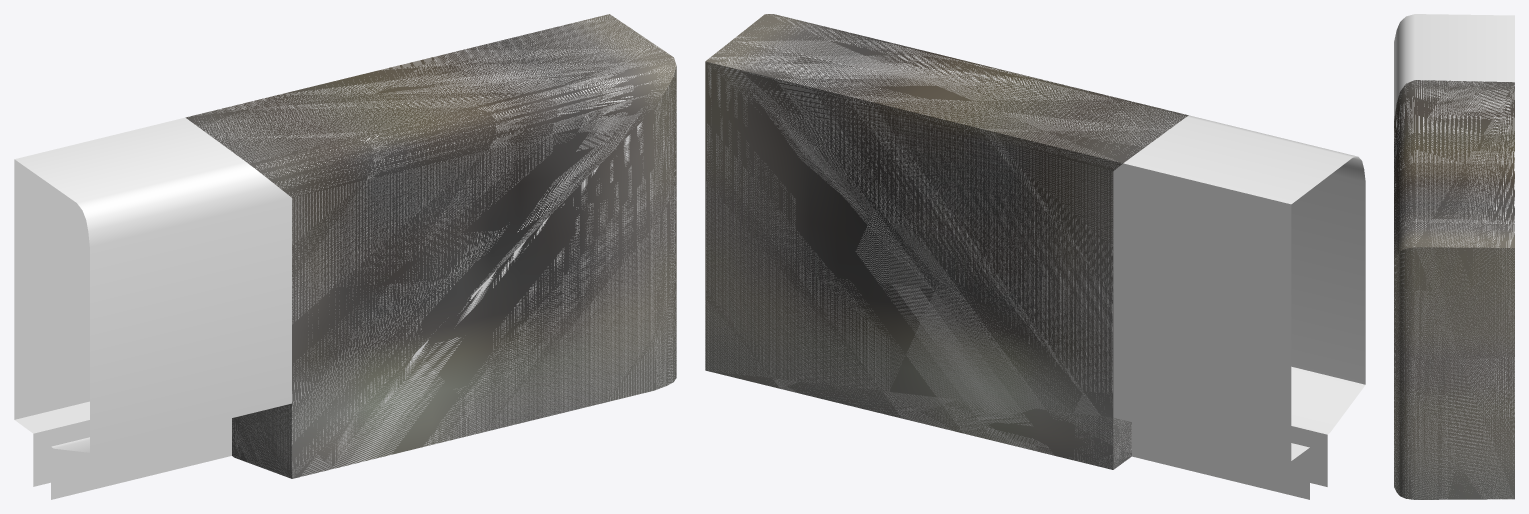
File: original-36.obj
The picture shows the model from 3 angles, left to right: view 1: azimuth 30°, elevation 25°; view 2: azimuth 150°, elevation 25°; view 3: azimuth 270°, elevation 25°; orthographic projection. The views are drawn at different scales.
Parts seen in each view (by area): view 1: DF_11_TR1/DF_11_TR/mesh24/mesh24-geometry#mesh24-geometry; view 2: DF_11_TR1/DF_11_TR/mesh24/mesh24-geometry#mesh24-geometry; view 3: DF_11_TR1/DF_11_TR/mesh24/mesh24-geometry#mesh24-geometry.
Part boxes in pixels (x1,y1,x2,y2): DF_11_TR1/DF_11_TR/mesh24/mesh24-geometry#mesh24-geometry: [14, 14, 676, 499]; DF_11_TR1/DF_11_TR/mesh24/mesh24-geometry#mesh24-geometry: [705, 14, 1365, 499]; DF_11_TR1/DF_11_TR/mesh24/mesh24-geometry#mesh24-geometry: [1394, 14, 1514, 499].
Bounding box in the file's own units: 0.1444 × 0.073 × 0.0316.
